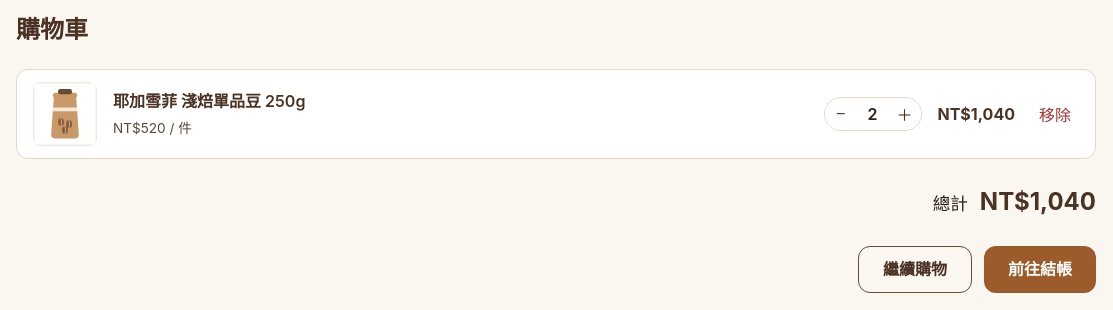
Cart 頁 › 按下數量加號會更新該品項數量與總計
This screenshot has width=1113, height=310.
Click the button named "增加數量" at (904, 114), box [888, 98, 920, 130]
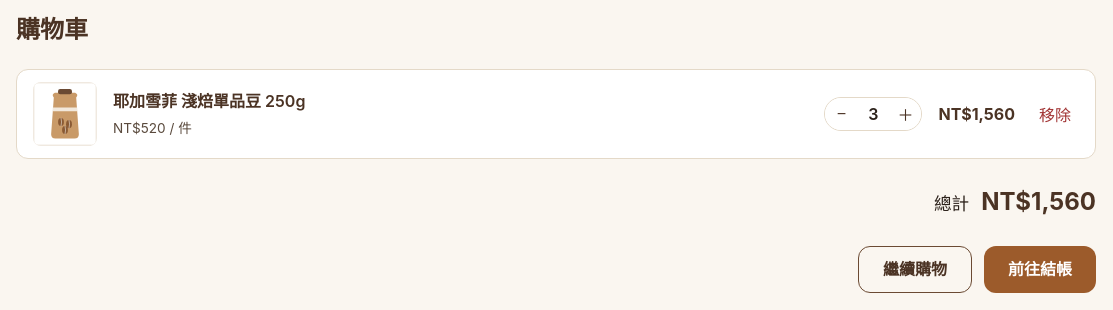
Expected: the text with test id "quantity-value" reads "3", [868, 104, 878, 124]
Expected: the text with test id "cart-total" reads "NT$1,560", [981, 188, 1096, 216]
